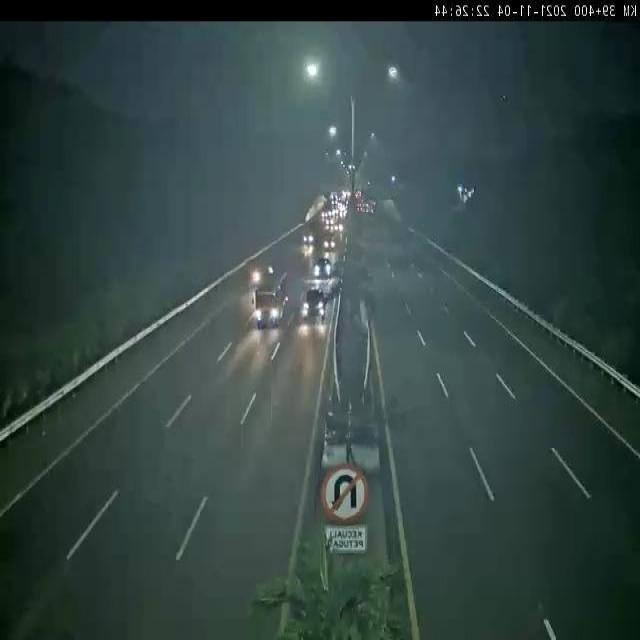Bus: (251, 269, 291, 337)
Car: (302, 286, 332, 326), (312, 257, 336, 280), (320, 233, 340, 256), (301, 230, 316, 249)
